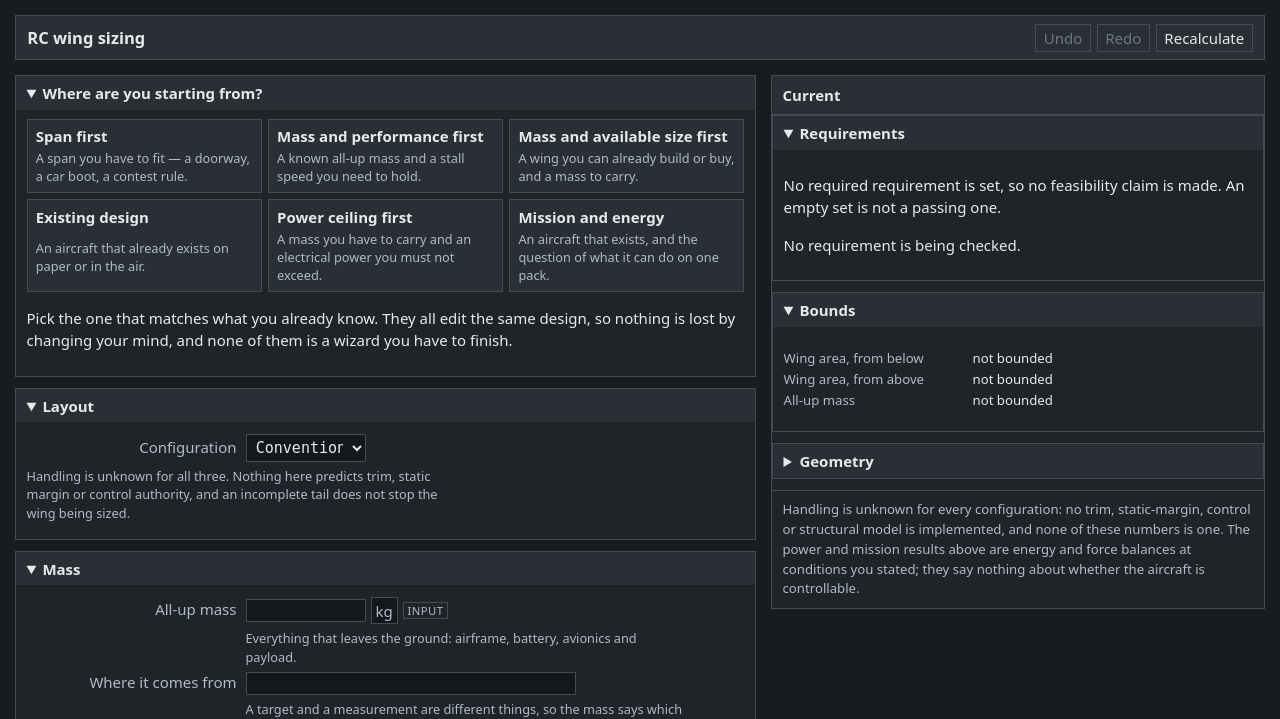
Test: a response that arrives after the builder has moved on › two answers arriving out of order leave only the later one showing
The image size is (1280, 719).
Expected: the text "Current" is shown, [782,85,840,105]
Click the button "Recalculate": (1204, 38) [1156,24,1253,52]
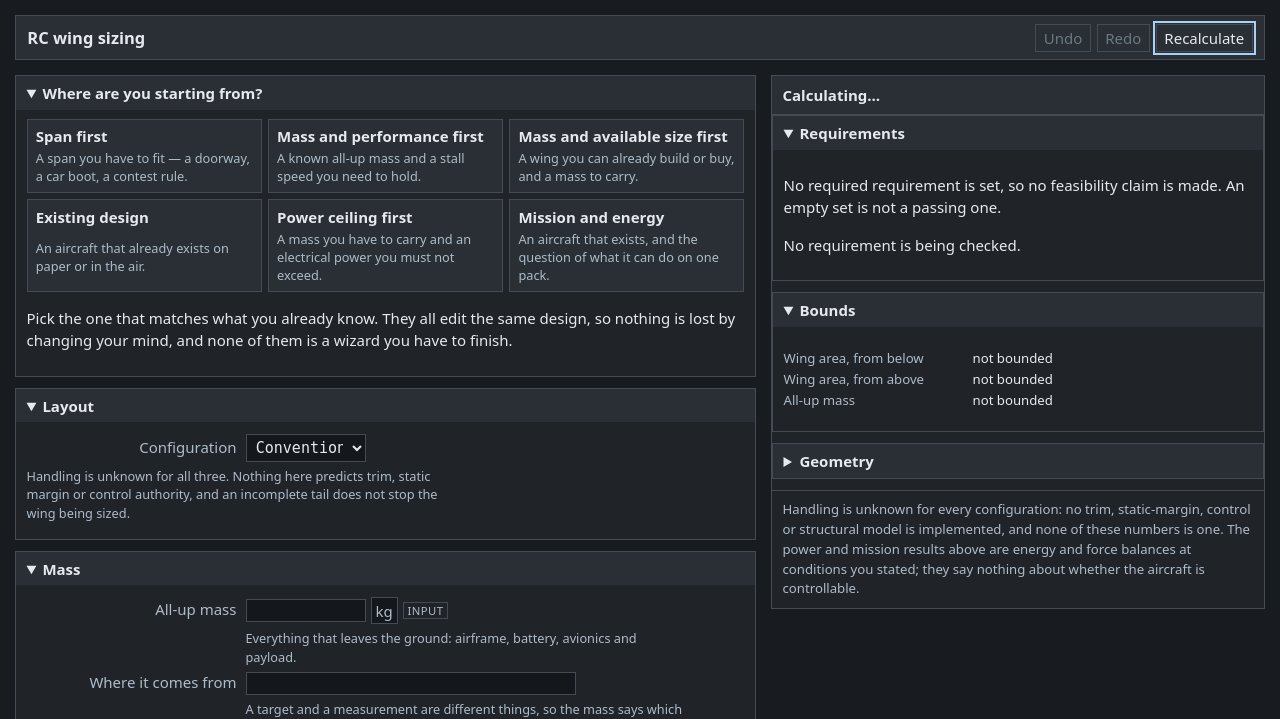
Click the button "Recalculate": (1204, 38) [1156,24,1253,52]
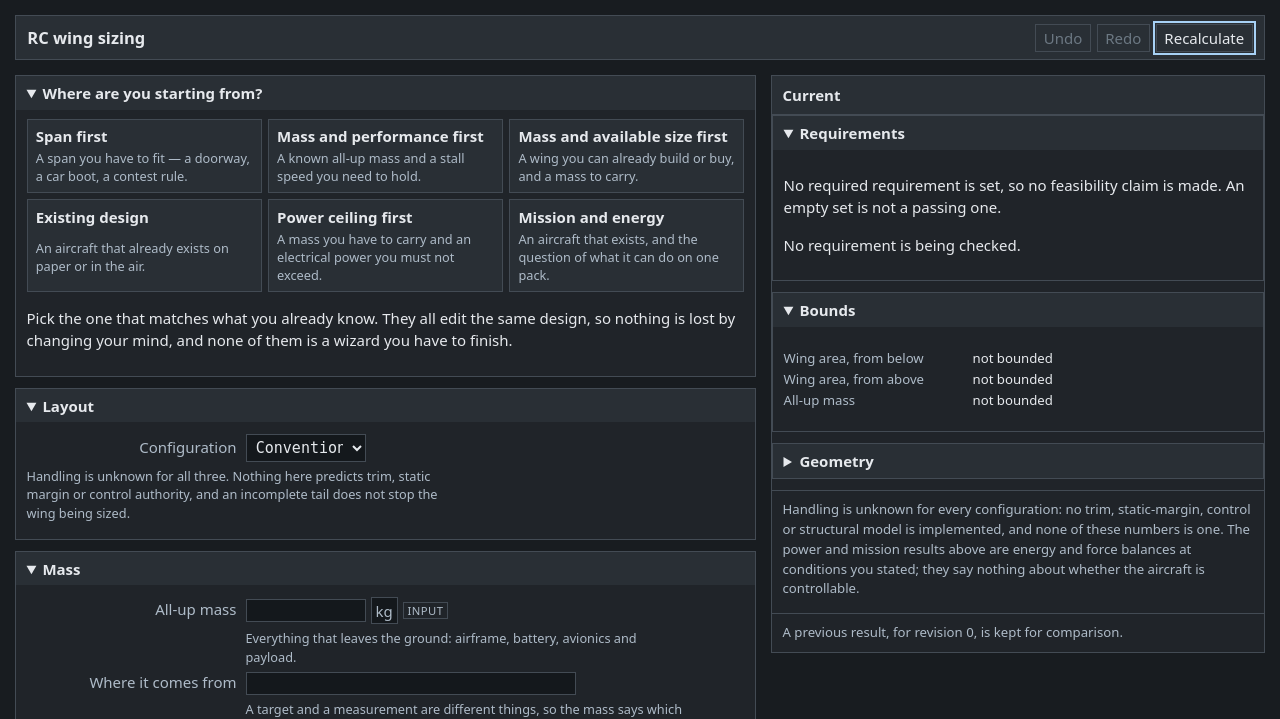
Expected: the text "Current" is shown, [782,85,840,105]
